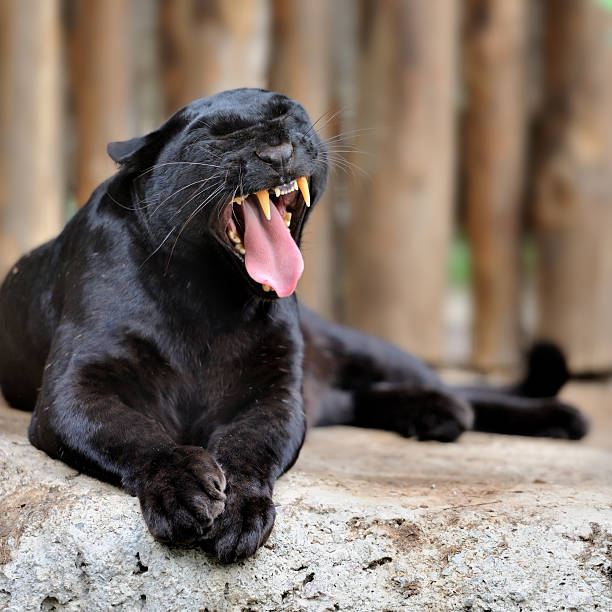panther: (35, 62, 355, 315)
